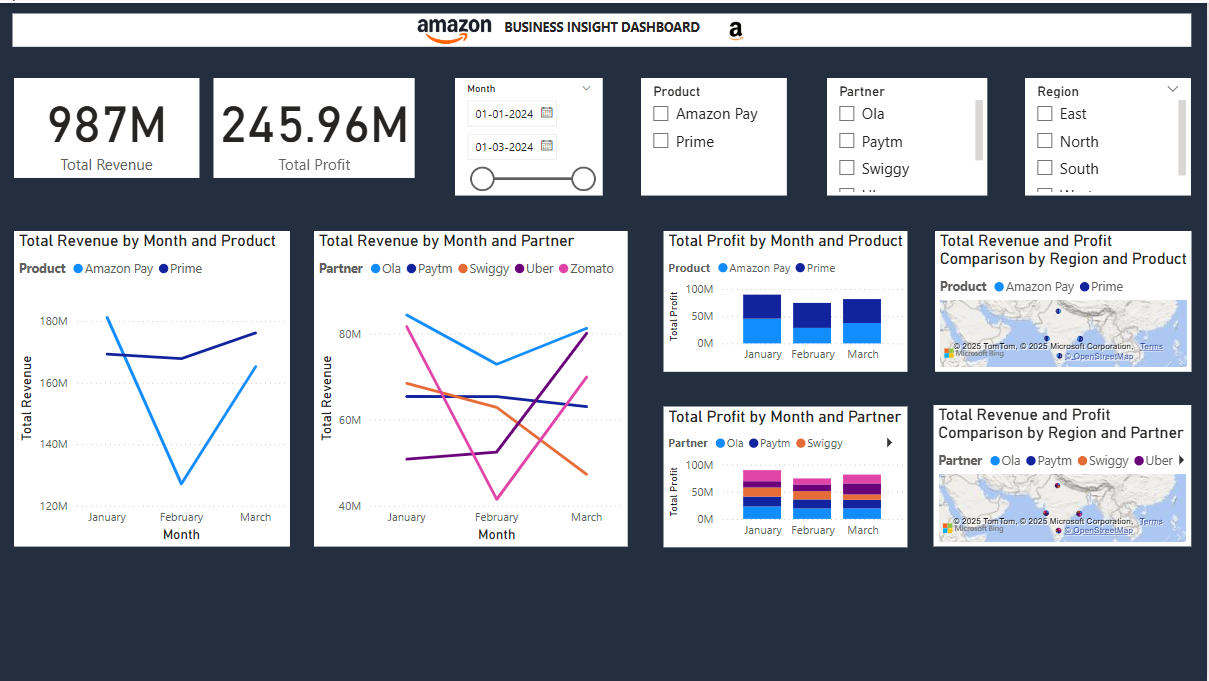

What the dashboard file says about the page in this screenshot:
{"tool":"powerbi","page":{"name":"Page 1","canvas":[1280,720],"ordinal":0},"visuals":[{"type":"textbox","box":[15,11.7,1250,35],"z":0},{"type":"image","box":[413.3,1.7,138.3,56.7],"z":1000},{"type":"image","box":[758.3,6.7,45,46.7],"z":2000},{"type":"lineChart","fields":{"Category":["Sheet1.Month.Variation.Date Hierarchy.Month"],"Series":["Sheet1.Product"],"Y":["Sheet1.Total Revenue"]},"box":[15.1,241.9,292.9,334.5],"z":5000},{"type":"lineChart","fields":{"Category":["Sheet1.Month.Variation.Date Hierarchy.Month"],"Series":["Sheet1.Partner"],"Y":["Sheet1.Total Revenue"]},"box":[334.5,241.9,332.6,334.5],"z":6000},{"type":"slicer","fields":{"Values":["Sheet1.Month"]},"box":[483.8,79.4,156.9,124.7],"z":7000},{"type":"slicer","fields":{"Values":["Sheet1.Product"]},"box":[680.3,79.4,155,124.7],"z":8000},{"type":"slicer","fields":{"Values":["Sheet1.Partner"]},"box":[878.7,79.4,170.1,124.7],"z":9000},{"type":"columnChart","fields":{"Category":["Sheet1.Month.Variation.Date Hierarchy.Month"],"Series":["Sheet1.Product"],"Y":["Sheet1.Total Profit"]},"box":[704.9,241.9,258.9,149.3],"z":10000},{"type":"columnChart","fields":{"Category":["Sheet1.Month.Variation.Date Hierarchy.Month"],"Series":["Sheet1.Partner"],"Y":["Sheet1.Total Profit"]},"box":[704.9,427.1,258.9,149.3],"z":11000},{"type":"card","fields":{"Values":["Sheet1.Total Revenue"]},"box":[15.1,79.4,196.5,105.8],"z":11001},{"type":"card","fields":{"Values":["Sheet1.Total Profit"]},"box":[226.8,79.4,213.5,105.8],"z":11002},{"type":"map","title":"Total Revenue and Profit Comparison by Region and Product","fields":{"Category":["Sheet1.Region"],"Y":["Avg(Sheet1.Region_Latitude)"],"X":["Avg(Sheet1.Region_Longitude)"],"Series":["Sheet1.Product"],"Size":["Sheet1.Total Revenue"]},"box":[992.1,241.9,272.1,149.3],"z":11003},{"type":"map","title":"Total Revenue and Profit Comparison by Region and Partner","fields":{"Category":["Sheet1.Region"],"Series":["Sheet1.Partner"],"Y":["Avg(Sheet1.Region_Latitude)"],"X":["Avg(Sheet1.Region_Longitude)"],"Size":["Sheet1.Total Revenue"]},"box":[991.7,426.7,273.3,150],"z":11004},{"type":"slicer","fields":{"Values":["Sheet1.Region"]},"box":[1088.5,79.4,175.7,124.7],"z":11005}]}

Visuals, with their boxes in screenshot pixels (x1, y1, x2, y2), scaled from the page's 1280x720 canvas onto the 1209x681 screenshot:
textbox: [14, 11, 1195, 44]
image: [390, 2, 521, 55]
image: [716, 6, 759, 51]
lineChart - Sheet1.Month.Variation.Date Hierarchy.Month x Sheet1.Product: [14, 229, 291, 545]
lineChart - Sheet1.Month.Variation.Date Hierarchy.Month x Sheet1.Partner: [316, 229, 630, 545]
slicer - Sheet1.Month: [457, 75, 605, 193]
slicer - Sheet1.Product: [643, 75, 789, 193]
slicer - Sheet1.Partner: [830, 75, 991, 193]
columnChart - Sheet1.Month.Variation.Date Hierarchy.Month x Sheet1.Product: [666, 229, 910, 370]
columnChart - Sheet1.Month.Variation.Date Hierarchy.Month x Sheet1.Partner: [666, 404, 910, 545]
card - Sheet1.Total Revenue: [14, 75, 200, 175]
card - Sheet1.Total Profit: [214, 75, 416, 175]
"Total Revenue and Profit Comparison by Region and Product" map: [937, 229, 1194, 370]
"Total Revenue and Profit Comparison by Region and Partner" map: [937, 404, 1195, 545]
slicer - Sheet1.Region: [1028, 75, 1194, 193]
